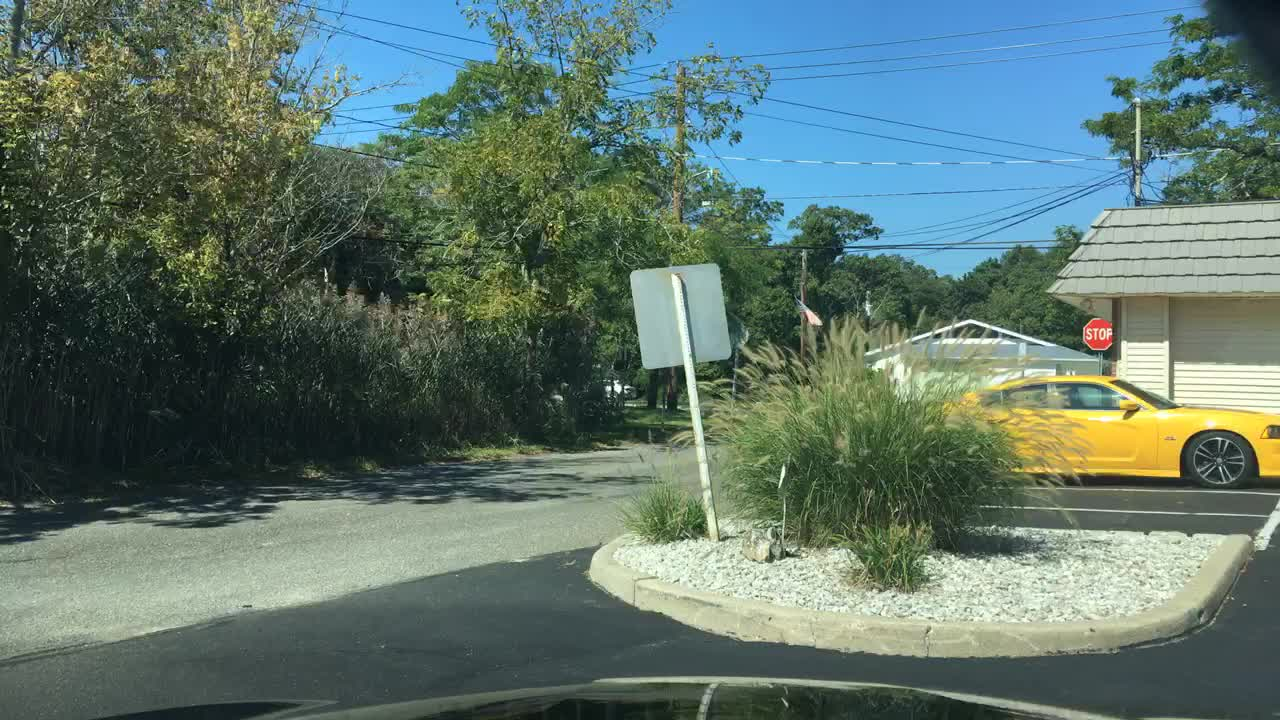car: (913, 373, 1279, 489), (546, 367, 641, 407)
traffic sign: (626, 263, 729, 369), (1080, 318, 1110, 354)
